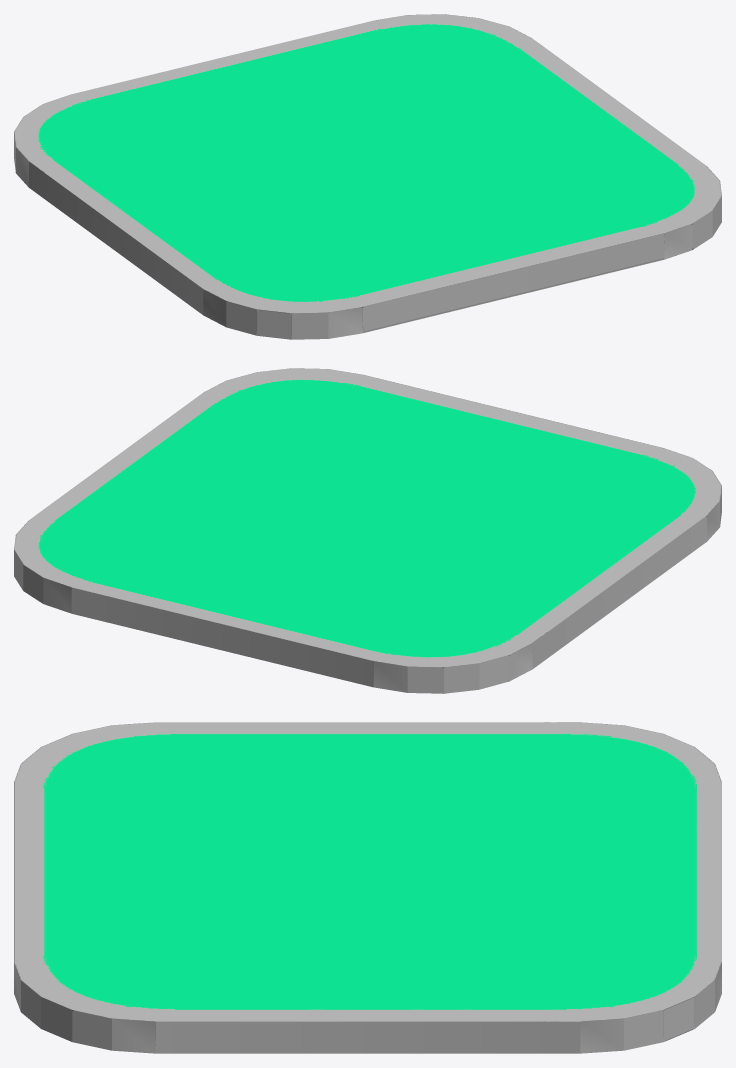
File: newblock3.obj
The picture shows the model from 3 angles, top to bottom: view 1: azimuth 30°, elevation 25°; view 2: azimuth 150°, elevation 25°; view 3: azimuth 270°, elevation 25°; orthographic projection. The views are drawn at different scales.
Parts seen in each view (by area): view 1: 立方体.001; view 2: 立方体.001; view 3: 立方体.001.
Part boxes in pixels (x1=…): 立方体.001: x1=14, y1=14, x2=721, y2=339; 立方体.001: x1=14, y1=368, x2=721, y2=693; 立方体.001: x1=14, y1=722, x2=721, y2=1053.
Bounding box in the file's own units: 7.63 × 0.3814 × 7.63.
